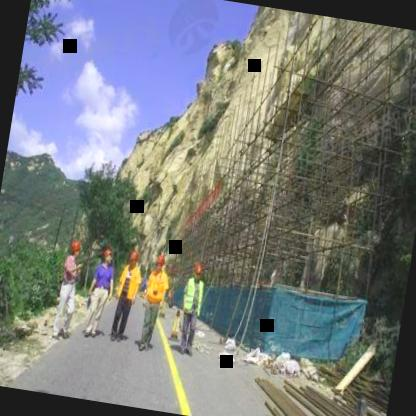helmet: (67, 236, 83, 260), (189, 260, 204, 283), (153, 250, 167, 274), (126, 248, 140, 272), (99, 243, 114, 263)
